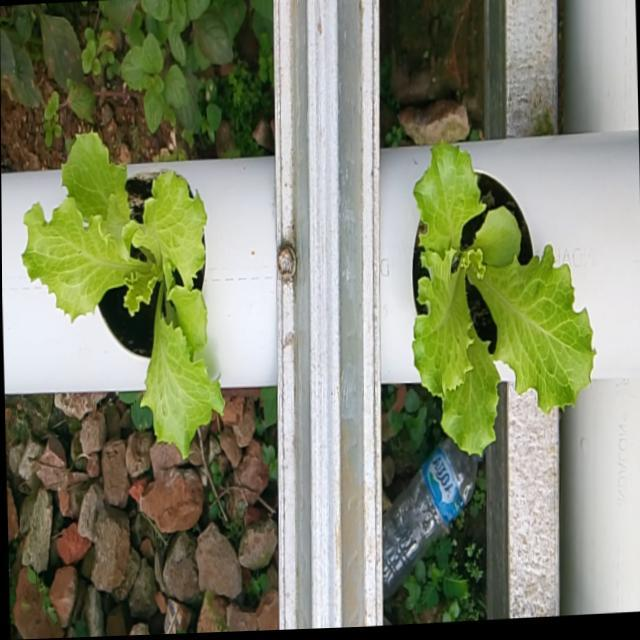Baby: (21, 132, 224, 457), (410, 140, 595, 455)
